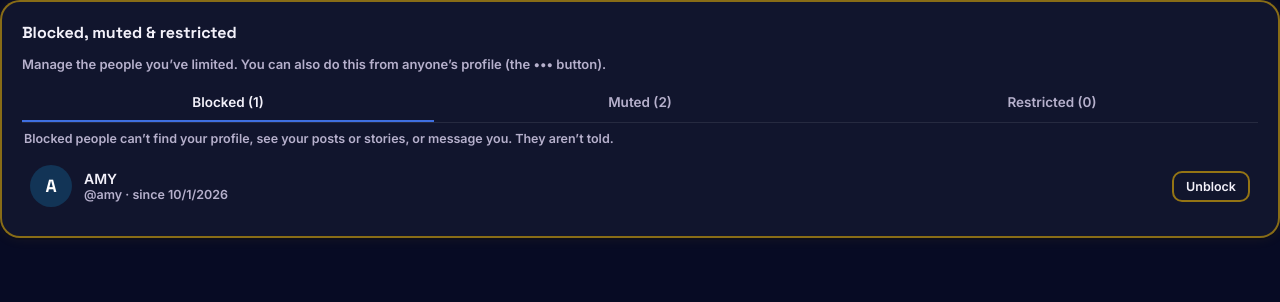
Test case: Settings: blocked / muted / restricted › a failed undo keeps the person in the list and says why
Check: the text "AMY" is shown, box left=84, top=170, right=117, bottom=187
What coordinates should you click on to do the following:
click the button named "Unblock @amy"
I would click on:
 (1211, 186)
Its box is left=1172, top=170, right=1250, bottom=202.
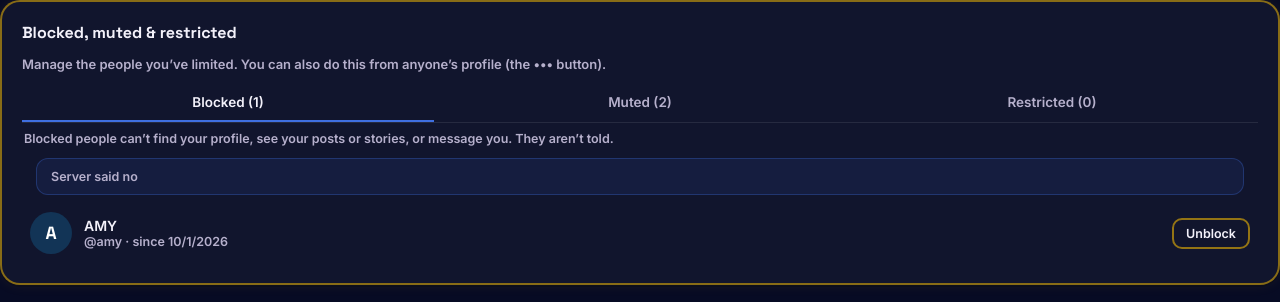
Check: the text "AMY" is shown, box left=84, top=217, right=117, bottom=234
Check: the text "Server said no" is shown, box left=36, top=158, right=1244, bottom=195
